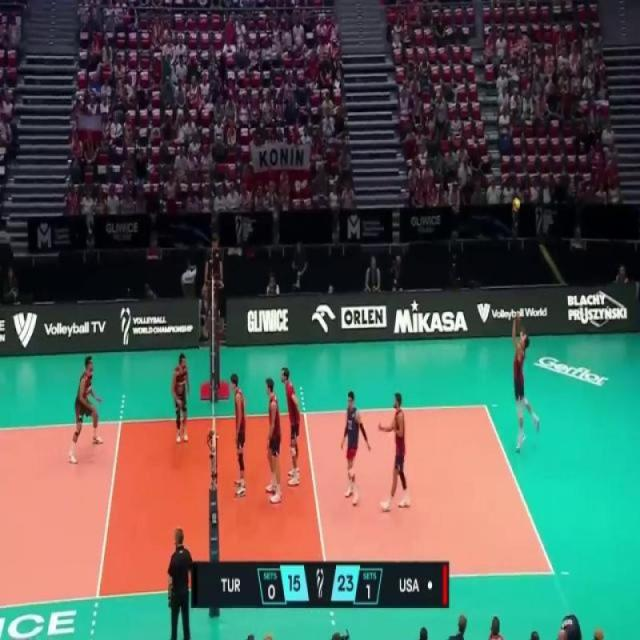volleyball: (511, 196, 522, 214)
